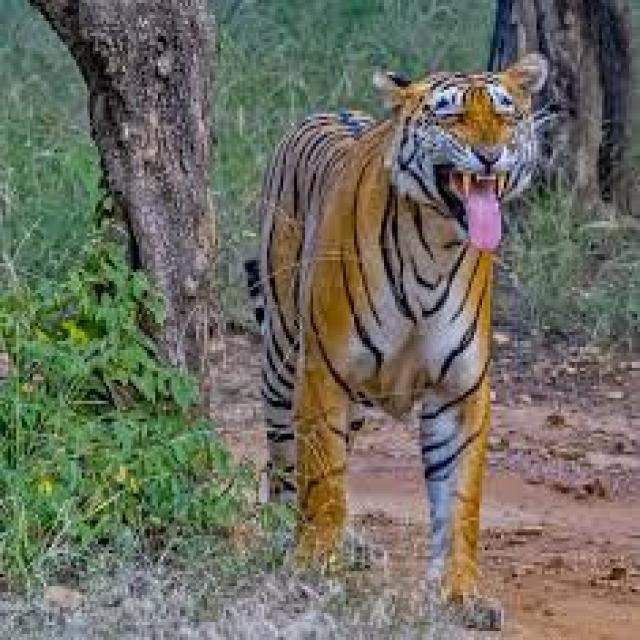Tiger: (240, 48, 553, 625)
